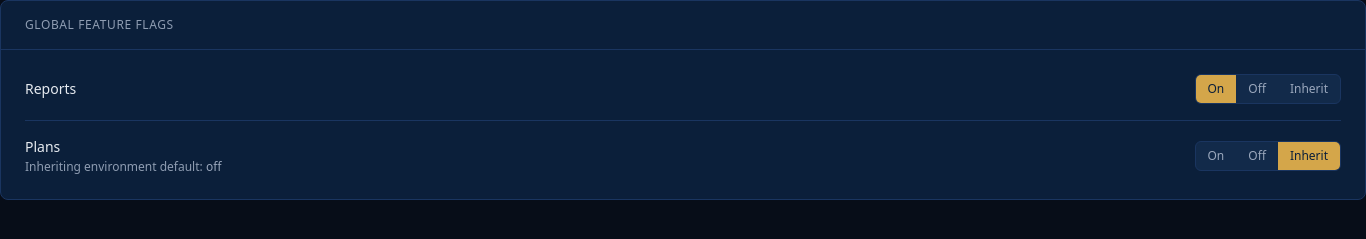
Test: FeatureFlagsCard › PUTs the chosen value and updates the row on change
expect the text "Reports" is shown: met, box [25,79,76,99]
expect the element showing "on off inherit" in the row of "Reports" is shown: met, box [1194,74,1341,104]
Click the button "off" in the row of "Reports" at (1257, 89), box [1236,75,1278,103]
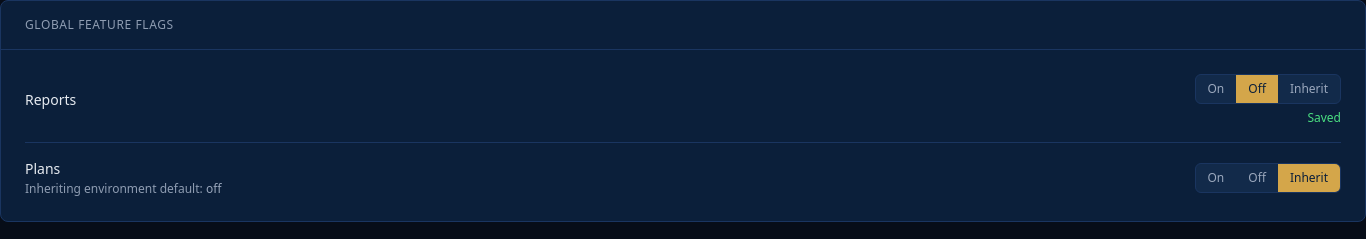
expect the text "Saved" is shown: met, box [1307,110,1341,126]
